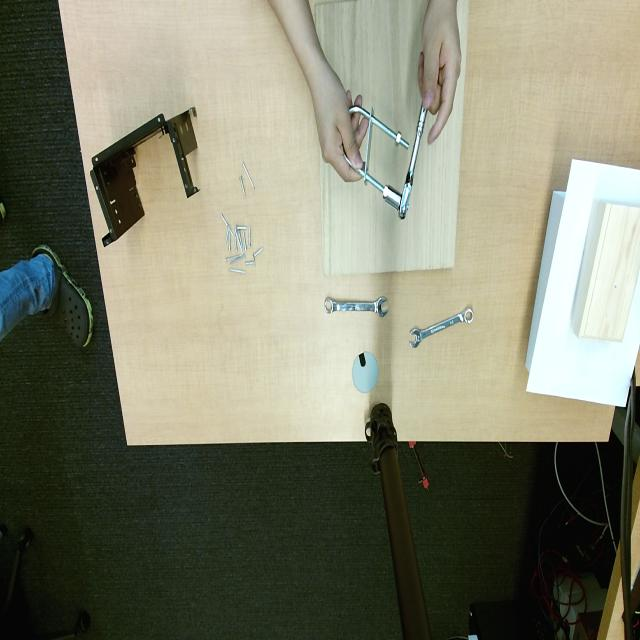wrench: (399, 107, 428, 220), (410, 307, 474, 348), (325, 296, 388, 318)
